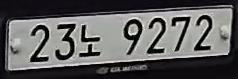2: (25, 22, 52, 64), (145, 15, 169, 56), (192, 13, 215, 54)
3: (52, 21, 78, 62)
7: (169, 15, 193, 53)
9: (118, 17, 146, 56)
노: (78, 21, 104, 60)
